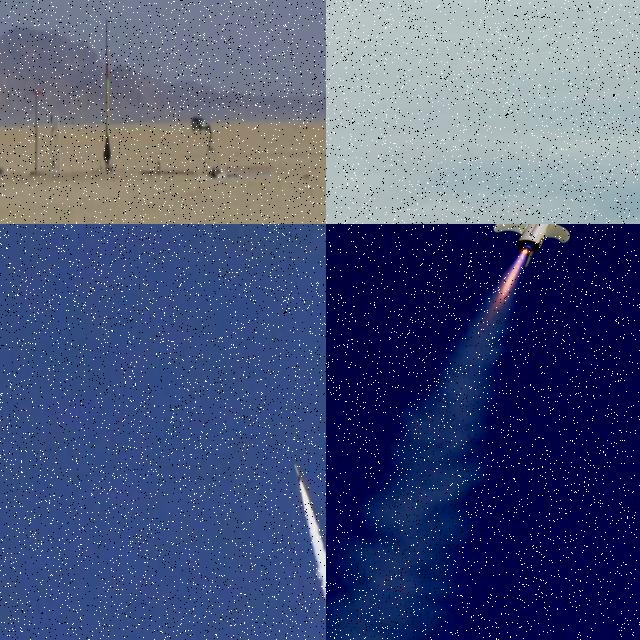Rocket: (102, 19, 112, 164), (294, 461, 302, 481)
